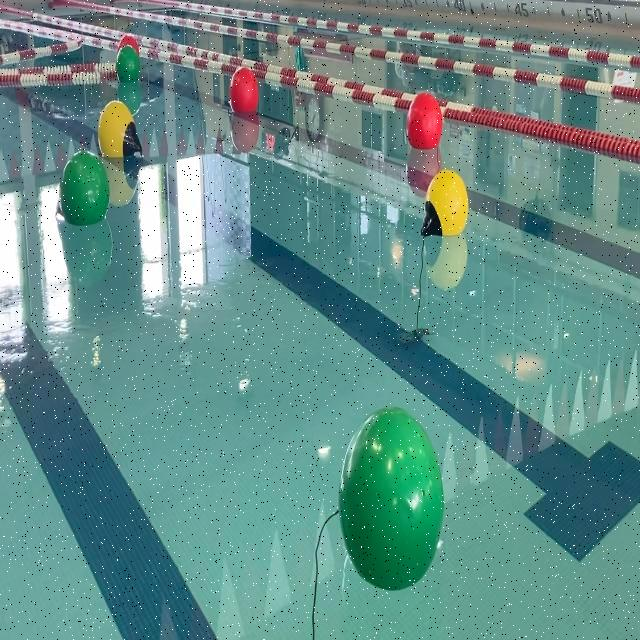buoy: (338, 405, 444, 603), (58, 152, 110, 228), (421, 168, 468, 238), (98, 100, 146, 162), (406, 92, 442, 153), (228, 66, 258, 116), (116, 44, 141, 84), (118, 34, 140, 56)
